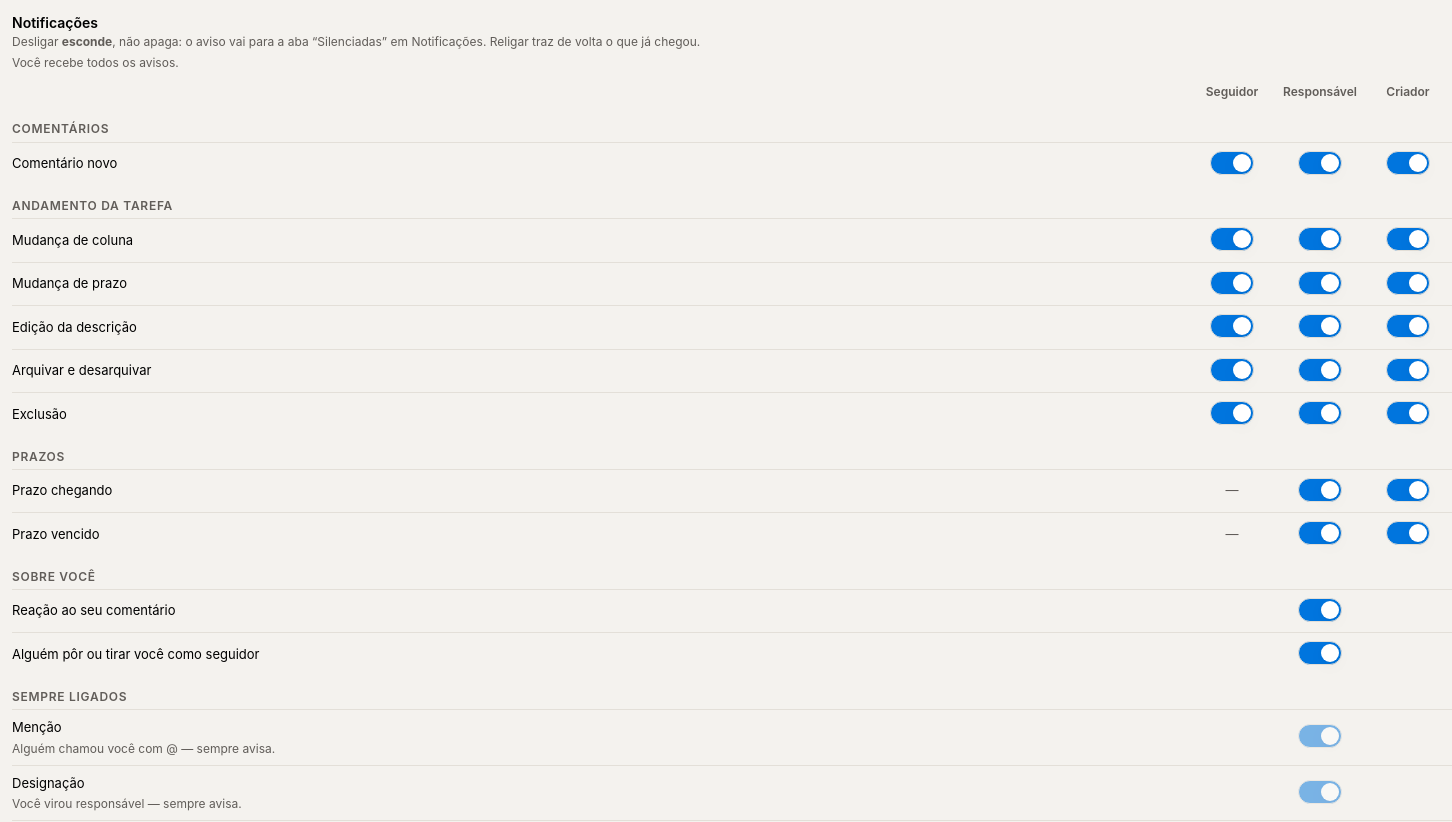
Test: gravar › a resposta do servidor manda, inclusive nos grupos de dois tipos
Click the switch named "Arquivar e desarquivar, como criador" at (1408, 370), box x1=1386 y1=358 x2=1430 y2=382
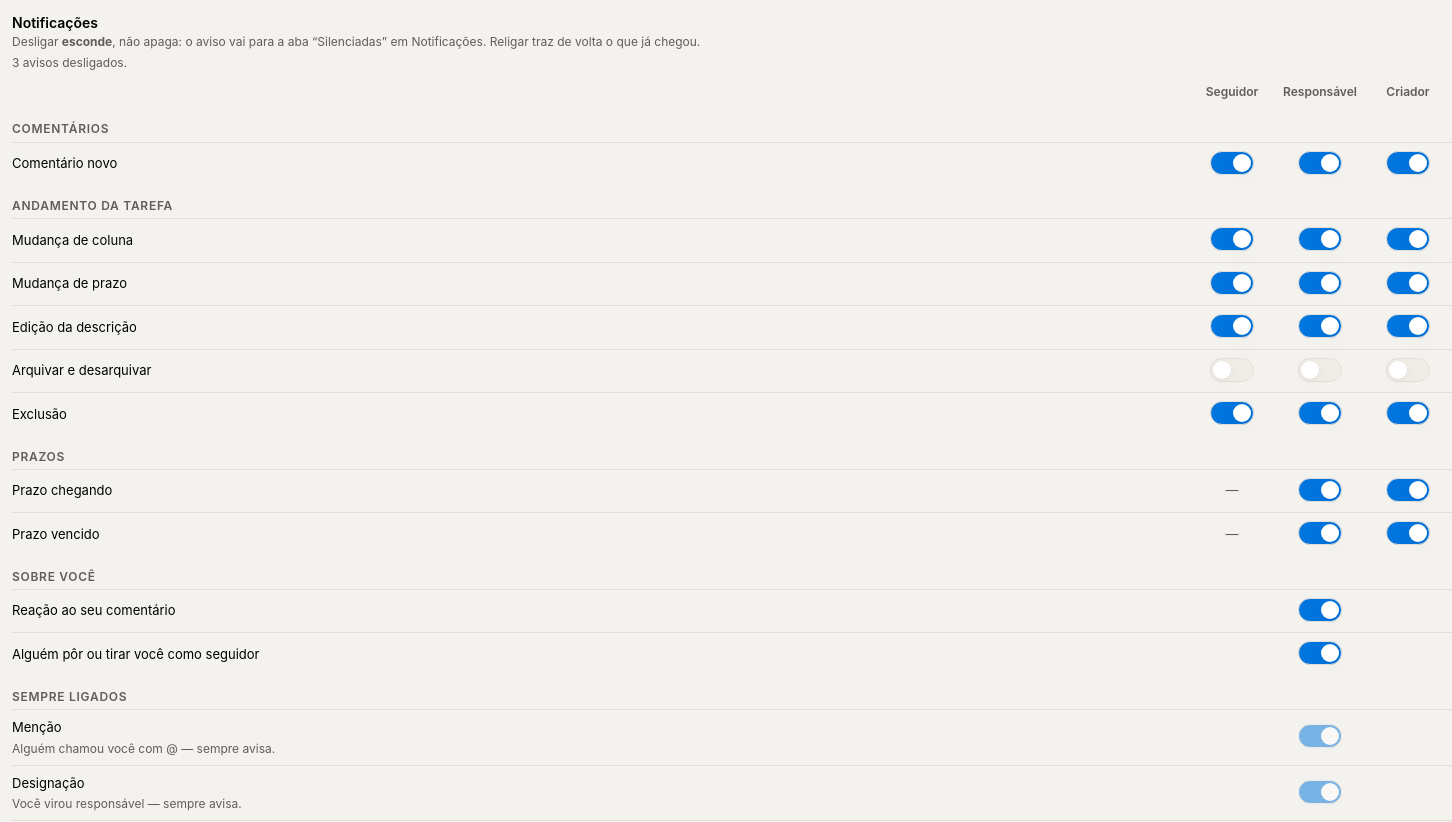
Result: the text "3 avisos desligados." is shown at x1=12 y1=55 x2=127 y2=70
